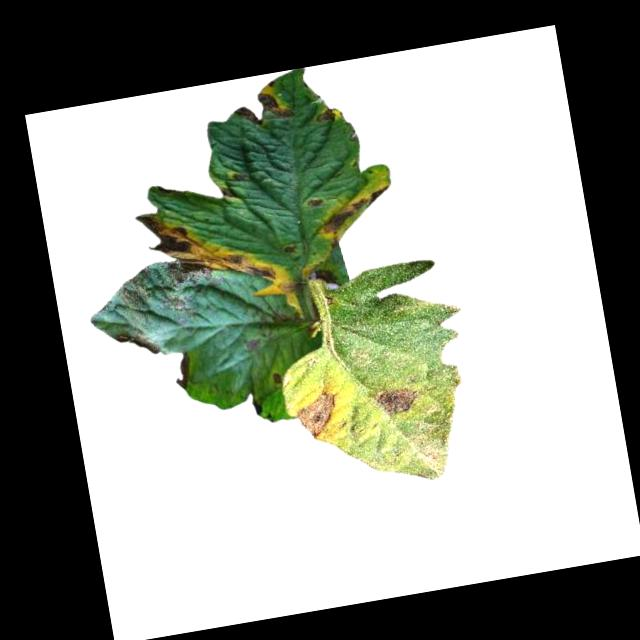Early_blight: (134, 191, 298, 318), (116, 256, 217, 324), (316, 185, 397, 238), (230, 88, 295, 133), (292, 387, 342, 442), (113, 328, 159, 362), (373, 386, 417, 417), (169, 352, 195, 391), (318, 107, 338, 126), (306, 199, 322, 210), (272, 371, 282, 386)
